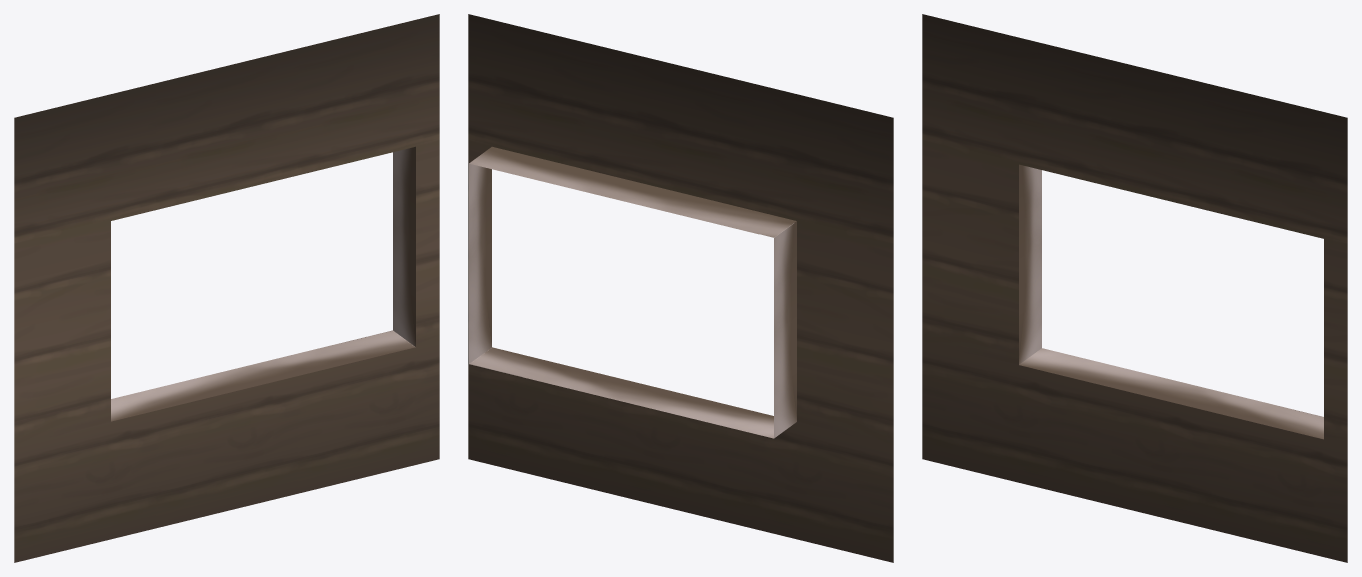
File: walls_attic_window.fbx
The picture shows the model from 3 angles, left to right: view 1: azimuth 30°, elevation 25°; view 2: azimuth 150°, elevation 25°; view 3: azimuth 330°, elevation 25°; orthographic projection.
Visible parts, largest first — view 1: walls_bathroom_attic.002; view 2: walls_bathroom_attic.002; view 3: walls_bathroom_attic.002.
Part boxes in pixels (x1,y1,x2,y2): walls_bathroom_attic.002: [14, 14, 439, 562]; walls_bathroom_attic.002: [468, 14, 893, 562]; walls_bathroom_attic.002: [922, 14, 1347, 562].
Size of the model in its own units: 3 by 3 by 0.2824.
Materials: 1 (1 with a texture image).
